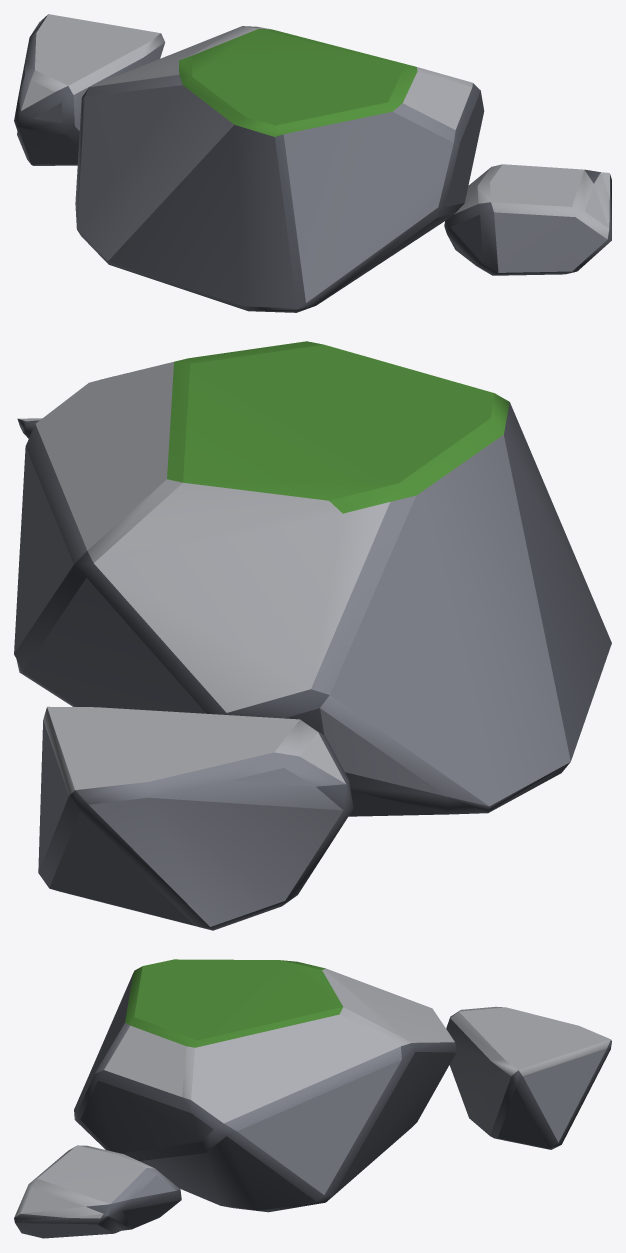
The model's file is Rock_05.glb.
3 views of the same model, one above another, from view 1: azimuth 30°, elevation 25°; view 2: azimuth 150°, elevation 25°; view 3: azimuth 270°, elevation 25° (orthographic). The views are drawn at different scales.
Visible parts, largest first — view 1: Rock_05; view 2: Rock_05; view 3: Rock_05.
Boxes of the visible parts, x1,y1,x2,y2 form: Rock_05: (14, 14, 611, 312); Rock_05: (14, 341, 611, 930); Rock_05: (14, 959, 611, 1238).
Size of the model in its own units: 3.07 by 1.14 by 3.91.
